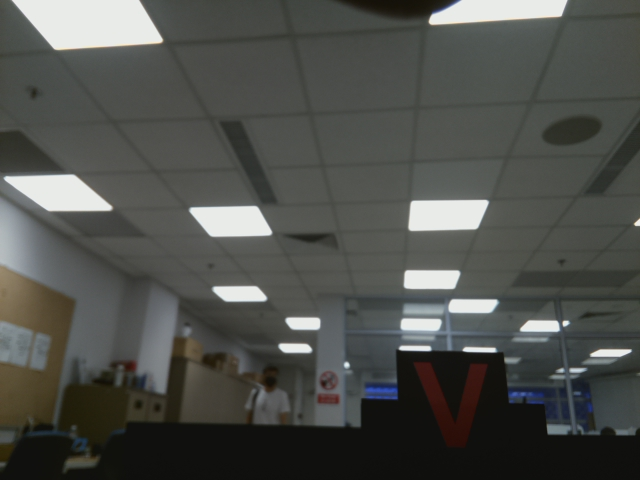v: (406, 349, 498, 455)
